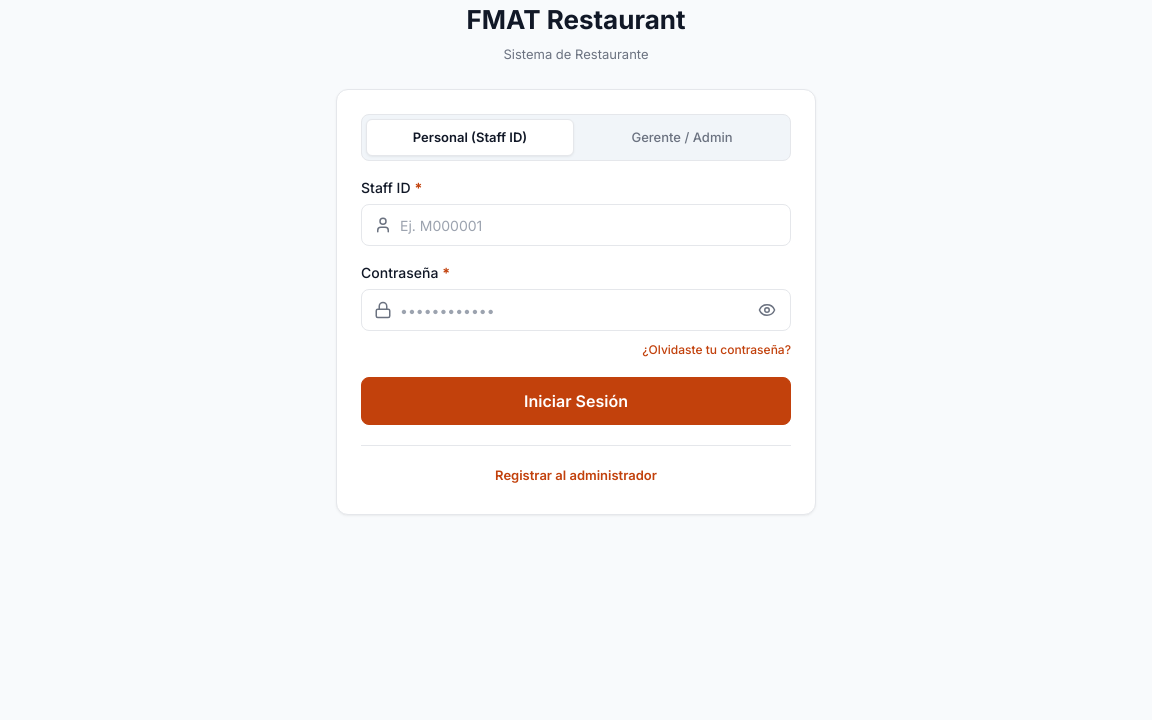
Scenario: Correcciones de la auditoría QA › BUG-AUTH-002: recuperación de contraseña del administrador › en la pestaña Personal sigue pidiendo el Staff ID
Click the button "¿Olvidaste tu contraseña?".
click(717, 350)  # box [642,339,791,361]
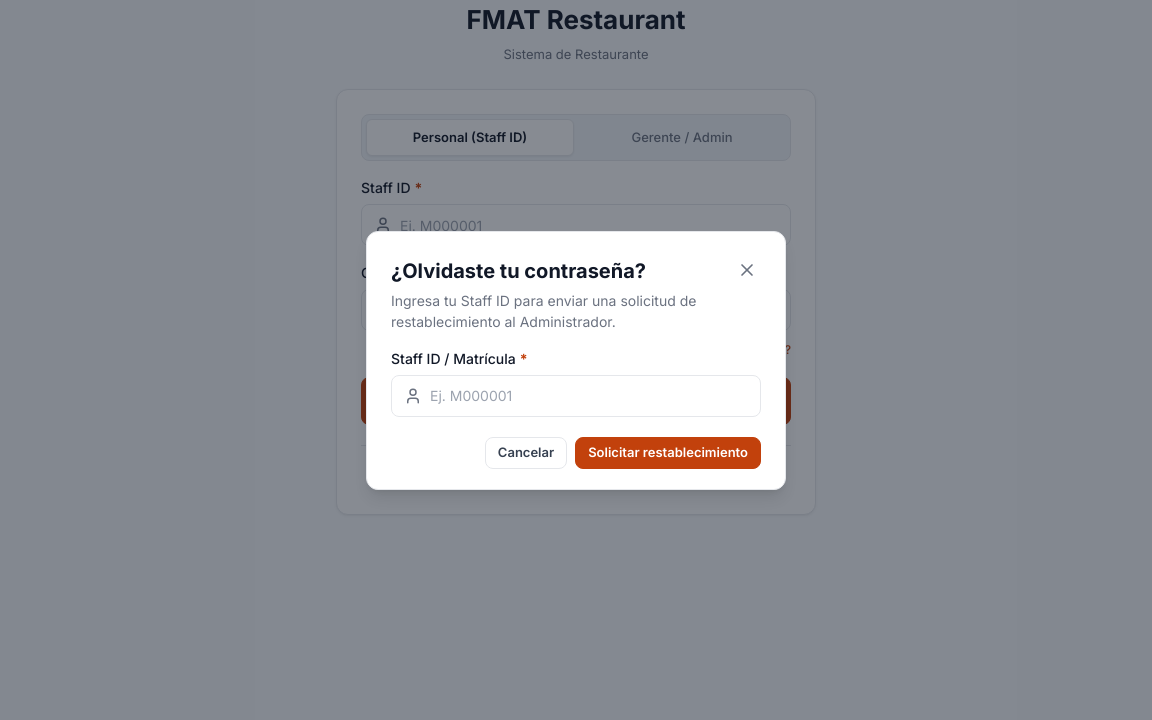
Expected: the field labelled "Staff ID / Matrícula *" is shown, [422,376,760,416]
